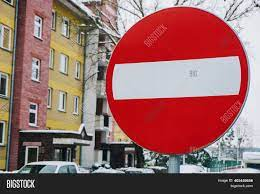No entry: (105, 8, 249, 154)
